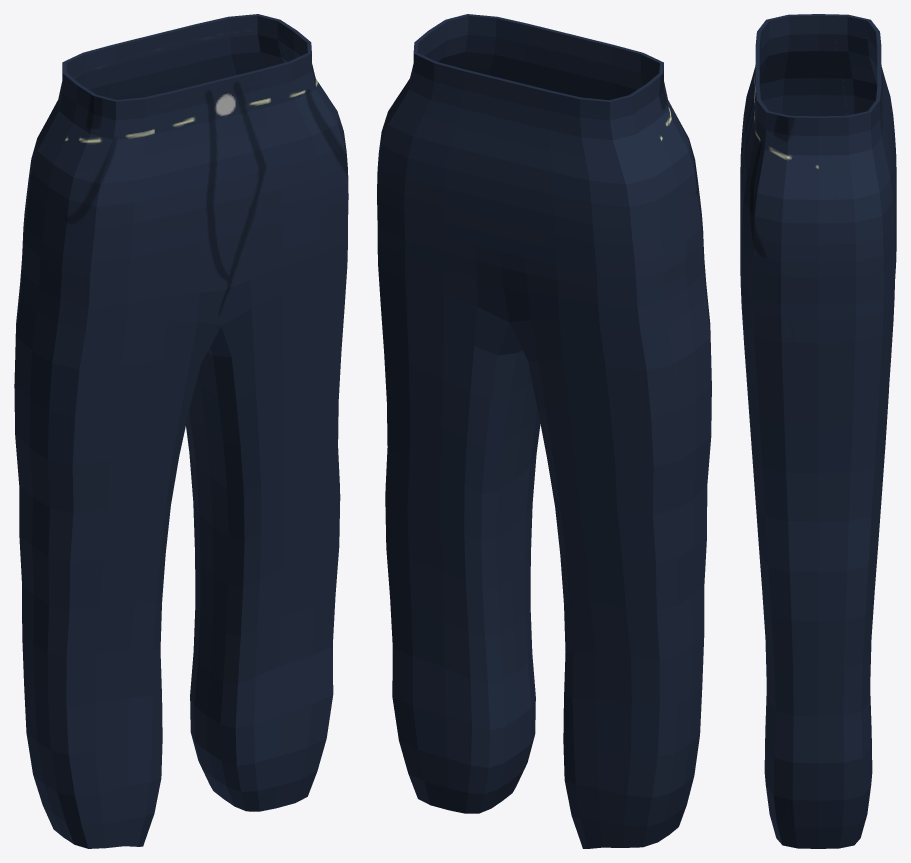
The model's file is jean.fbx.
The picture shows the model from 3 angles, left to right: view 1: azimuth 30°, elevation 25°; view 2: azimuth 150°, elevation 25°; view 3: azimuth 270°, elevation 25°; orthographic projection. The views are drawn at different scales.
Parts seen in each view (by area): view 1: Cube; view 2: Cube; view 3: Cube.
Part boxes in pixels (box(x1,y1,x2,y2)): Cube: box(14, 14, 348, 848); Cube: box(377, 14, 711, 848); Cube: box(740, 14, 896, 848).
Size of the model in its own units: 166 by 401 by 76.35.
1 material, 1 textured.
